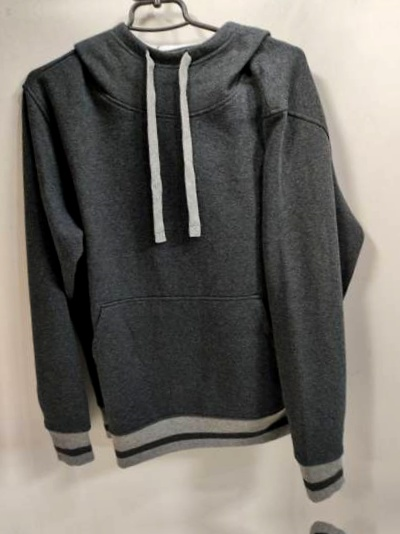Hoodie: (0, 0, 384, 515), (40, 526, 400, 534), (0, 0, 344, 1)
